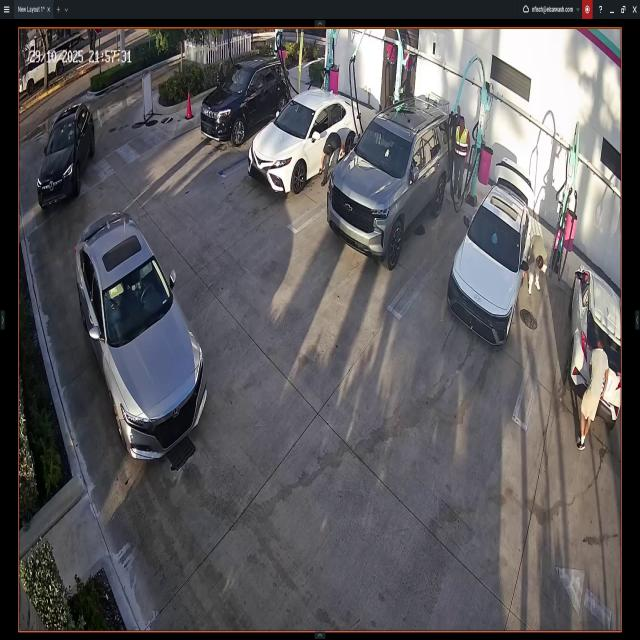Car: (75, 208, 211, 460), (328, 101, 452, 265), (451, 161, 532, 351), (247, 88, 361, 196), (570, 263, 623, 423), (201, 52, 288, 146), (38, 101, 96, 207)
